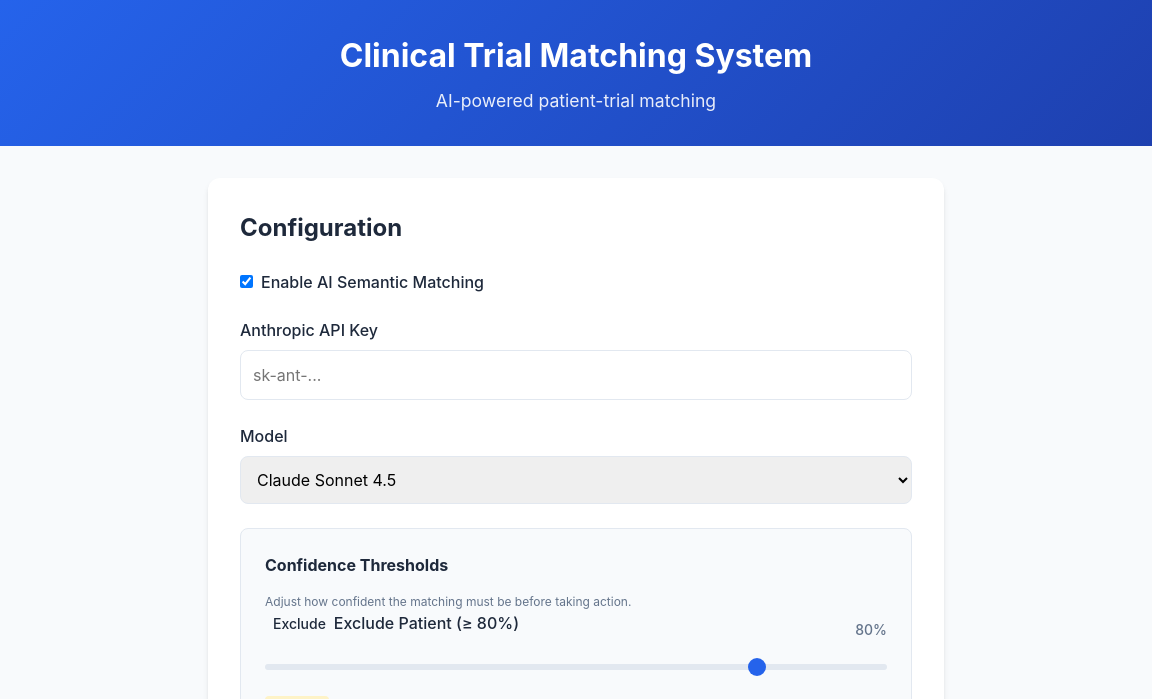
Test case: Contract 1: API Key Backend Storage › Settings Panel Text › shows server storage message after entering API key
Step 1. Type "sk-ant-test" into the password field labelled "Anthropic API Key" → (576, 375), box [240, 350, 912, 400]
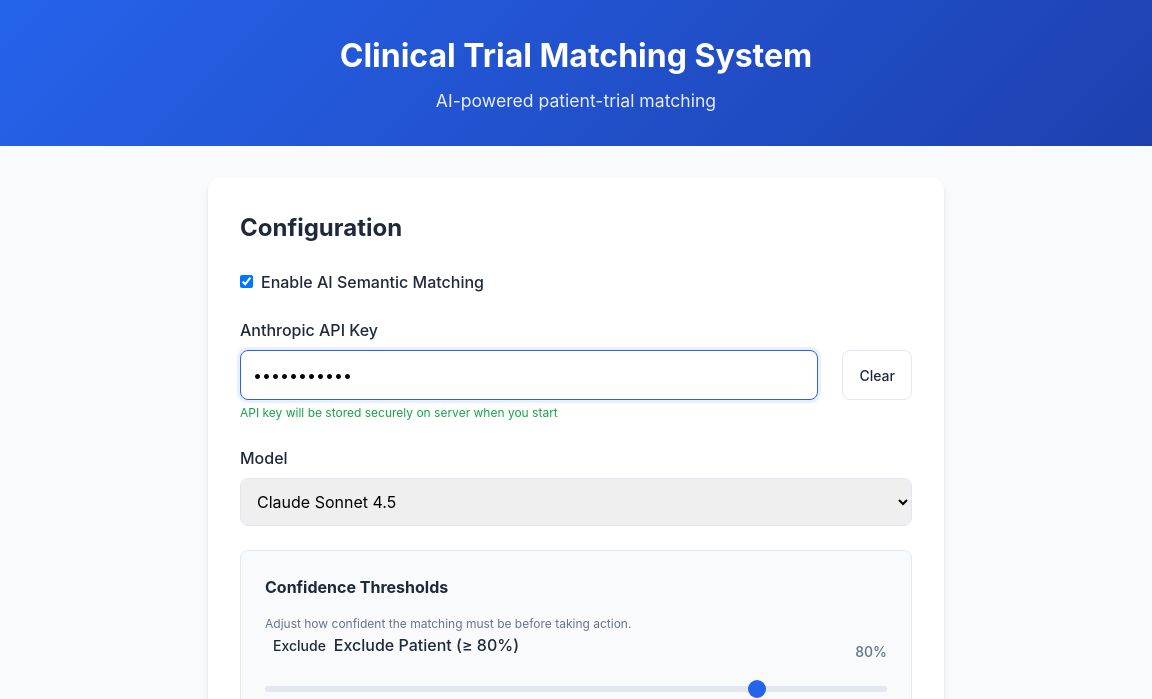
expect the text "API key will be stored securely on server when you start" is shown: met, box [240, 405, 558, 420]
